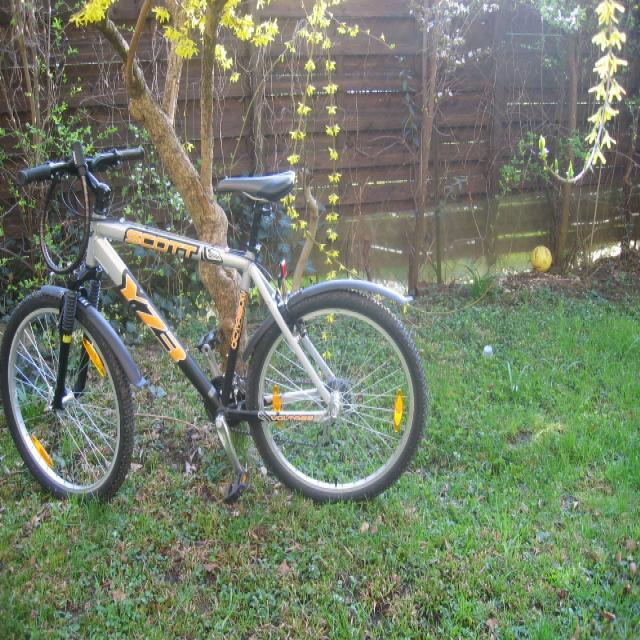bicycle: (0, 141, 428, 504)
